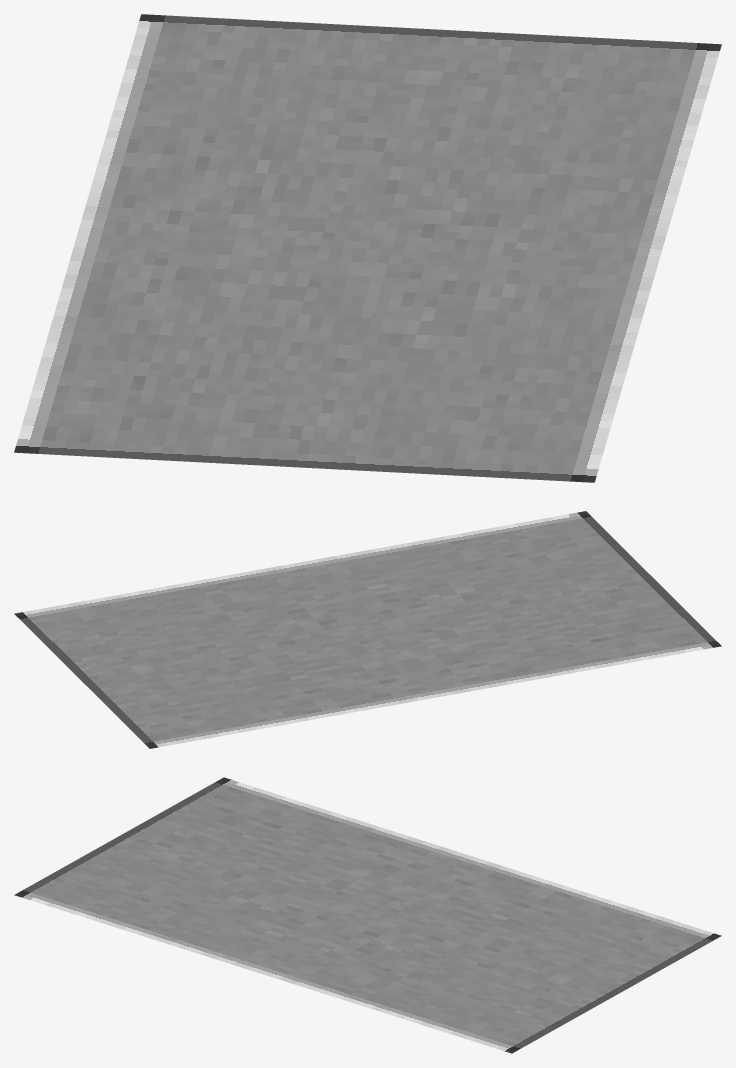
Rendered from primary_054.glb.
3 renders of one model, top to bottom at view 1: azimuth 30°, elevation 25°; view 2: azimuth 150°, elevation 25°; view 3: azimuth 270°, elevation 25°, orthographic. The views are drawn at different scales.
Visible parts, largest first — view 1: Object; view 2: Object; view 3: Object.
Boxes of the visible parts, bbox=[...] form: Object: bbox=[14, 14, 721, 482]; Object: bbox=[14, 511, 721, 748]; Object: bbox=[14, 777, 721, 1053].
Bounding box in the file's own units: 1.73 × 5.54e-05 × 1.87.
1 material, 1 textured.
